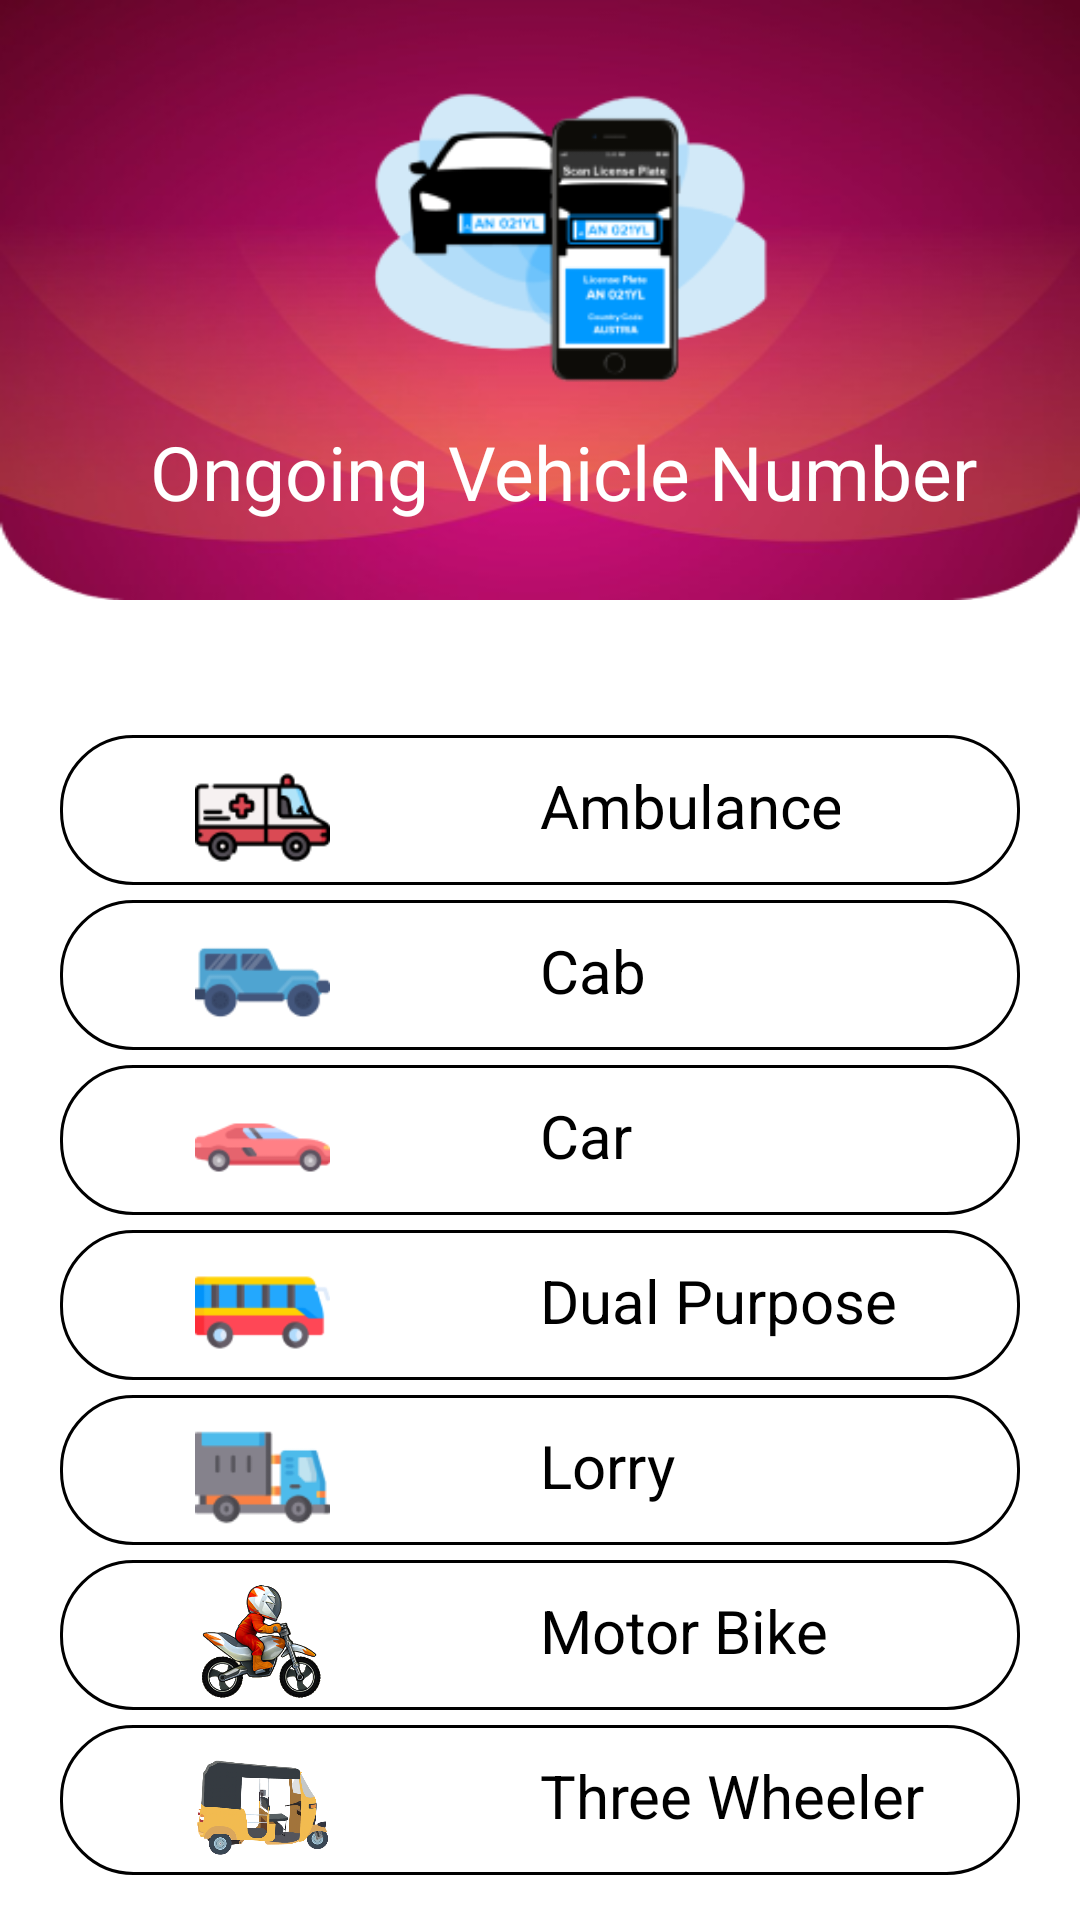

Named icons in this screenshot (1080x1920) and their centers, [x,y]:
ambulance: [262,817]
bike: [261,1641]
bus: [262,1312]
cab: [262,982]
car: [262,1147]
lorry: [262,1477]
three wheel: [262,1808]
